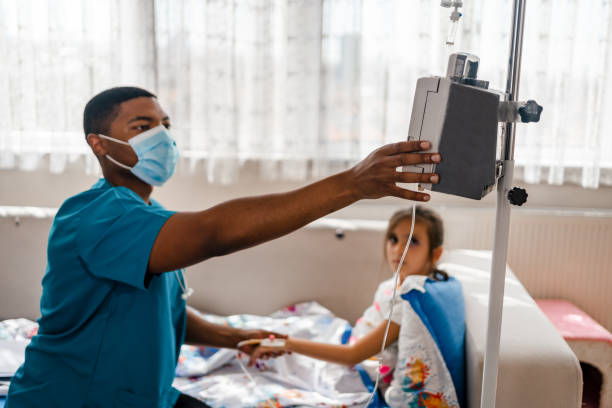infusion_pump: (397, 52, 512, 200)
iv_pole: (480, 1, 543, 408)
patient: (175, 203, 448, 398)
sofa: (1, 218, 582, 408)
staff: (4, 86, 442, 408)
